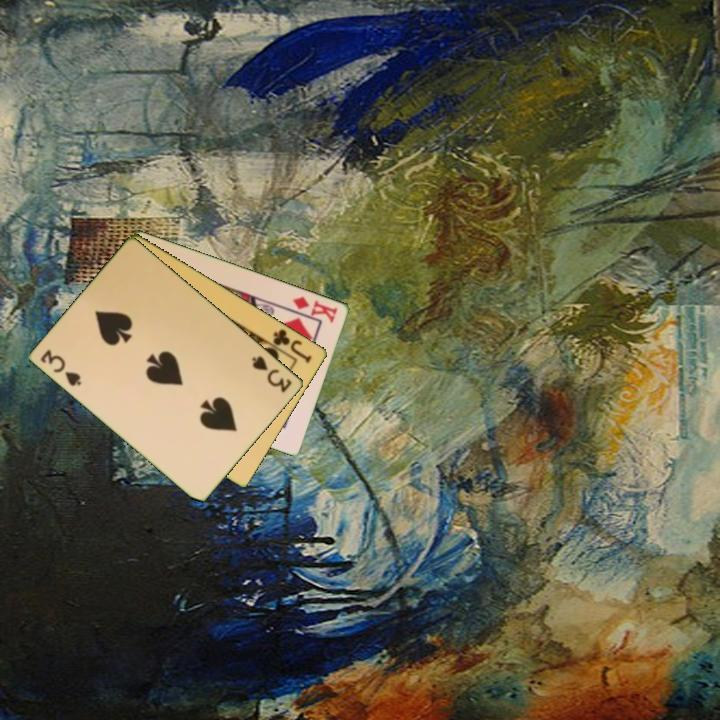3s: (248, 352, 295, 396), (37, 346, 85, 389)
Jc: (270, 325, 315, 366)
Kd: (289, 292, 341, 326)
